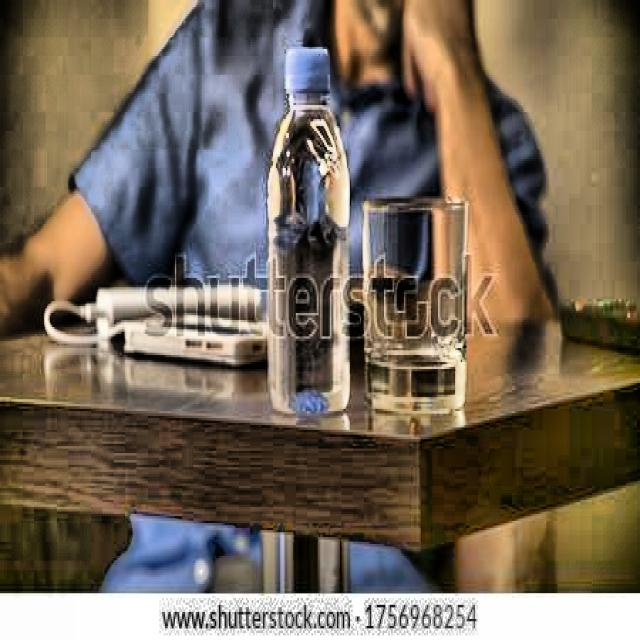Bottles: (261, 31, 355, 422)
